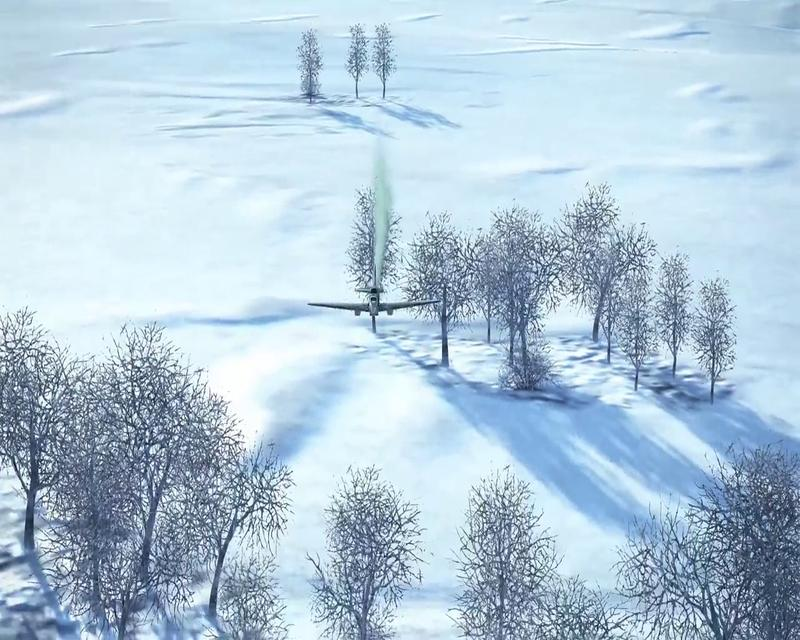UAV: (308, 286, 441, 318)
